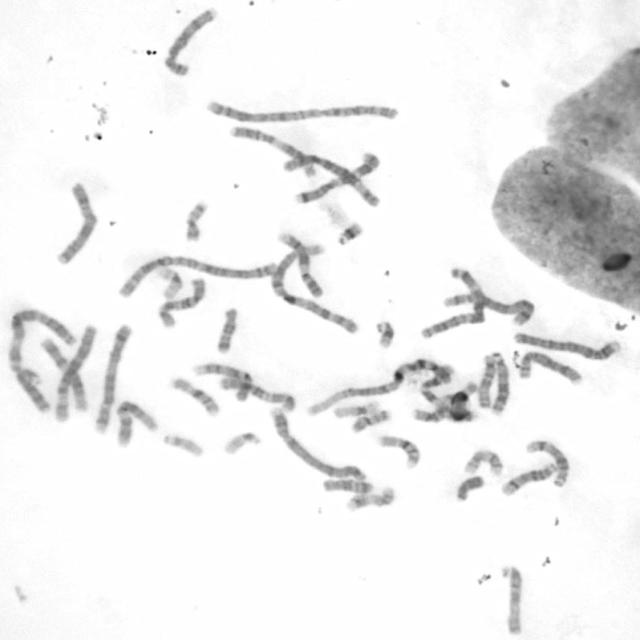A1: (302, 356, 453, 419), (268, 241, 362, 336)
A2: (111, 253, 280, 299), (199, 94, 403, 126)
A3: (414, 262, 489, 341), (8, 308, 79, 376)
B4: (266, 404, 368, 482), (511, 328, 622, 362)
B5: (90, 320, 135, 436), (439, 289, 536, 327)
C10: (216, 374, 298, 412), (155, 275, 208, 329)
C11: (225, 123, 320, 178), (412, 379, 479, 424)
C12: (36, 335, 91, 414), (111, 395, 161, 449)
C6: (277, 150, 382, 208), (50, 322, 98, 424)
C7: (292, 150, 386, 206), (418, 363, 459, 421)
C8: (160, 4, 220, 76), (515, 348, 584, 386)
C9: (274, 229, 326, 298), (188, 358, 256, 403)
D13: (10, 365, 58, 419), (486, 348, 512, 417)
D14: (524, 436, 572, 488), (496, 459, 558, 498)
D15: (499, 560, 525, 638), (476, 350, 497, 410)
E16: (167, 374, 221, 419), (374, 432, 422, 470)
E17: (341, 482, 397, 514), (460, 445, 506, 477)
E18: (212, 303, 242, 354), (319, 475, 374, 495)
F19: (153, 264, 185, 300), (330, 397, 382, 419)
F20: (180, 196, 211, 243), (349, 406, 393, 434)
G21: (333, 218, 366, 246), (371, 316, 398, 350)
G22: (158, 430, 206, 459), (220, 428, 264, 457)
X: (52, 177, 100, 267)
Y: (452, 472, 486, 503)
